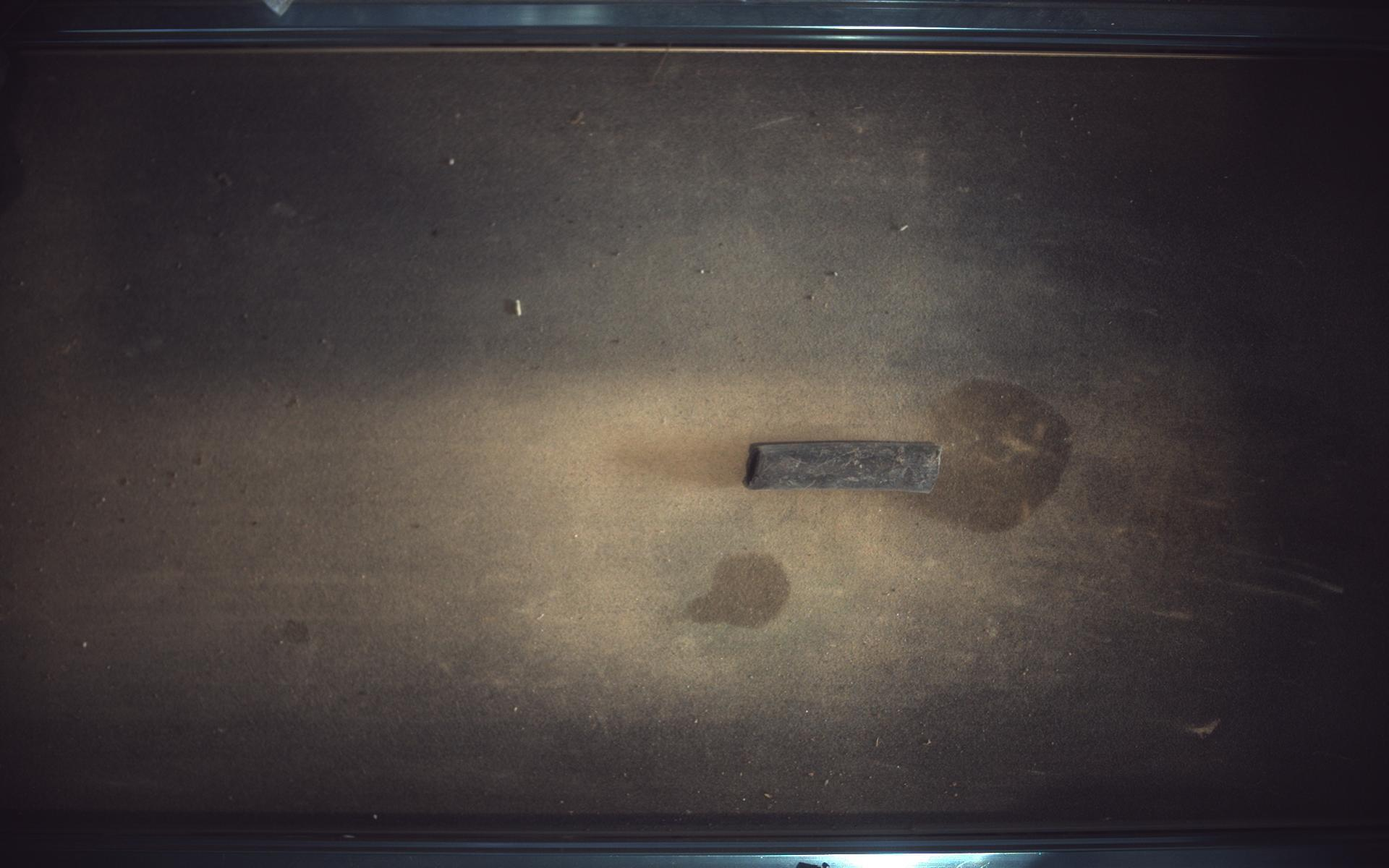pipes: (745, 441, 943, 493)
